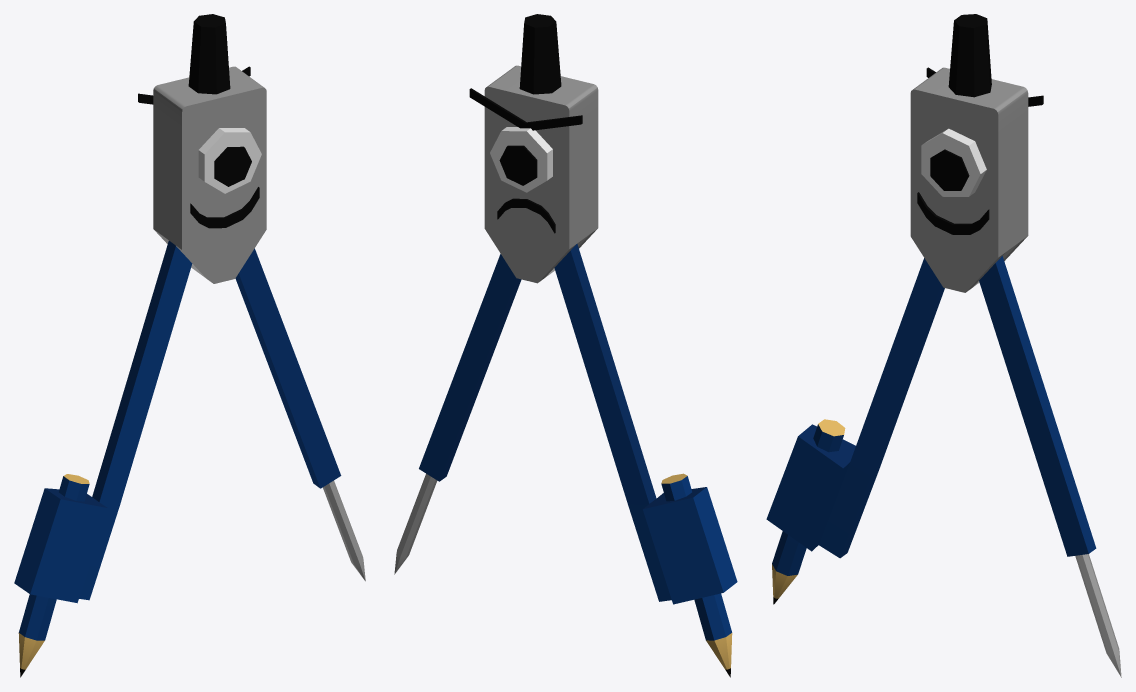
Rendered from konpasu.fbx.
The picture shows the model from 3 angles, left to right: view 1: azimuth 30°, elevation 25°; view 2: azimuth 150°, elevation 25°; view 3: azimuth 330°, elevation 25°; orthographic projection. The views are drawn at different scales.
Visible parts, largest first — view 1: pasted__pCube12; view 2: pasted__pCube12; view 3: pasted__pCube12.
Boxes of the visible parts, left/top/right/bottom form: pasted__pCube12: left=14, top=14, right=365, bottom=677; pasted__pCube12: left=394, top=14, right=737, bottom=677; pasted__pCube12: left=766, top=14, right=1121, bottom=677.
Bounding box in the file's own units: 69.13 × 118 × 15.06.
